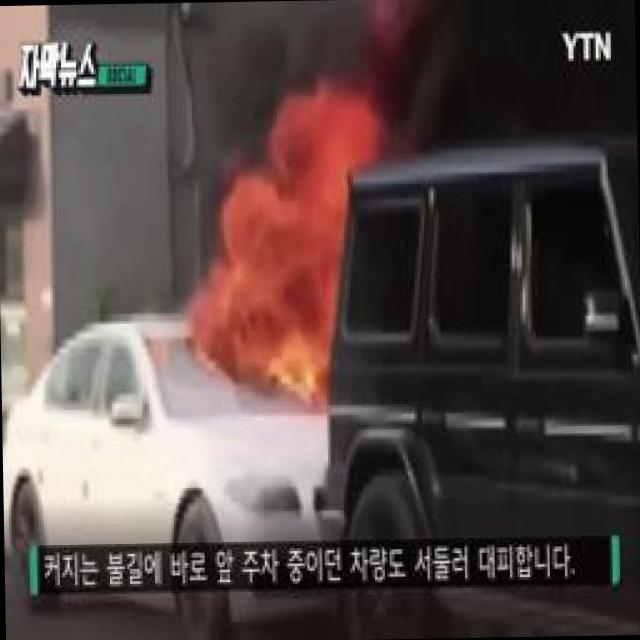Fire: (220, 94, 384, 396)
